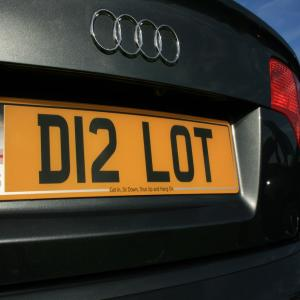Vehicle-registration-plate: (2, 98, 241, 203)
